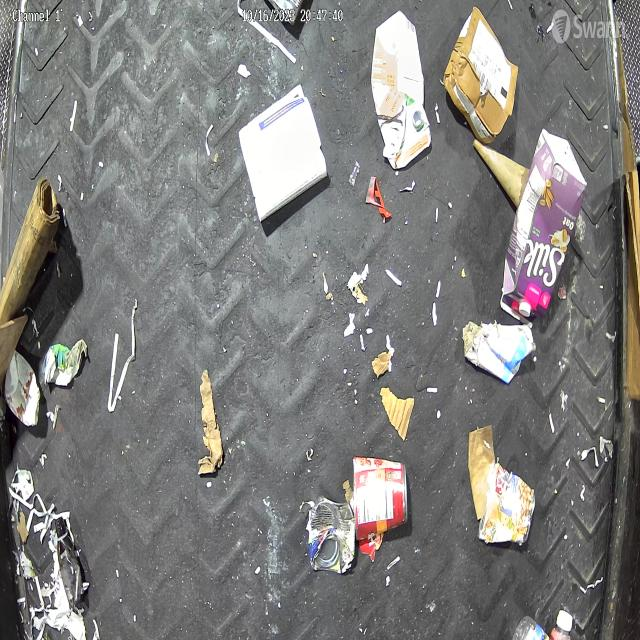can: (352, 454, 409, 540), (478, 461, 536, 544), (306, 494, 356, 575), (3, 349, 40, 432)
non_white_jug: (500, 126, 588, 330), (372, 7, 432, 168)
